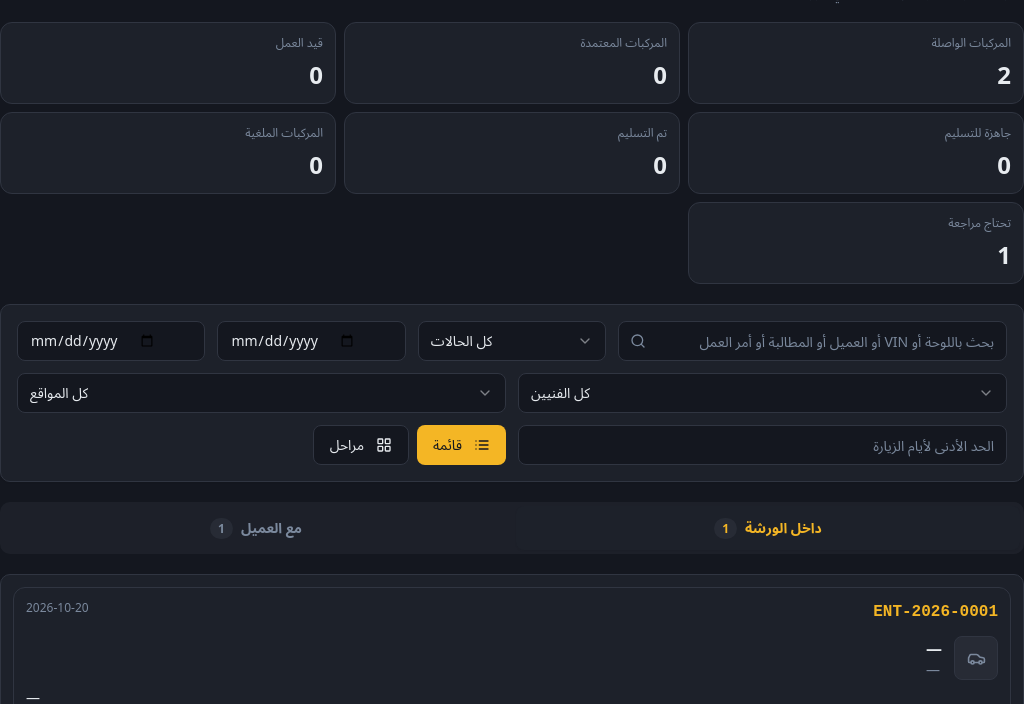
Test: vehicle entry list visit workflow › separates custody tabs, translates statuses, and exposes contradictory records
Expected: the link "ENT-2026-0001" is shown, [873,600,998,624]
Expected: the text "ENT-2026-0002" is not shown
Click the tab "مع العميل1": point(256, 528) [4,506,508,550]
(page scrolled)
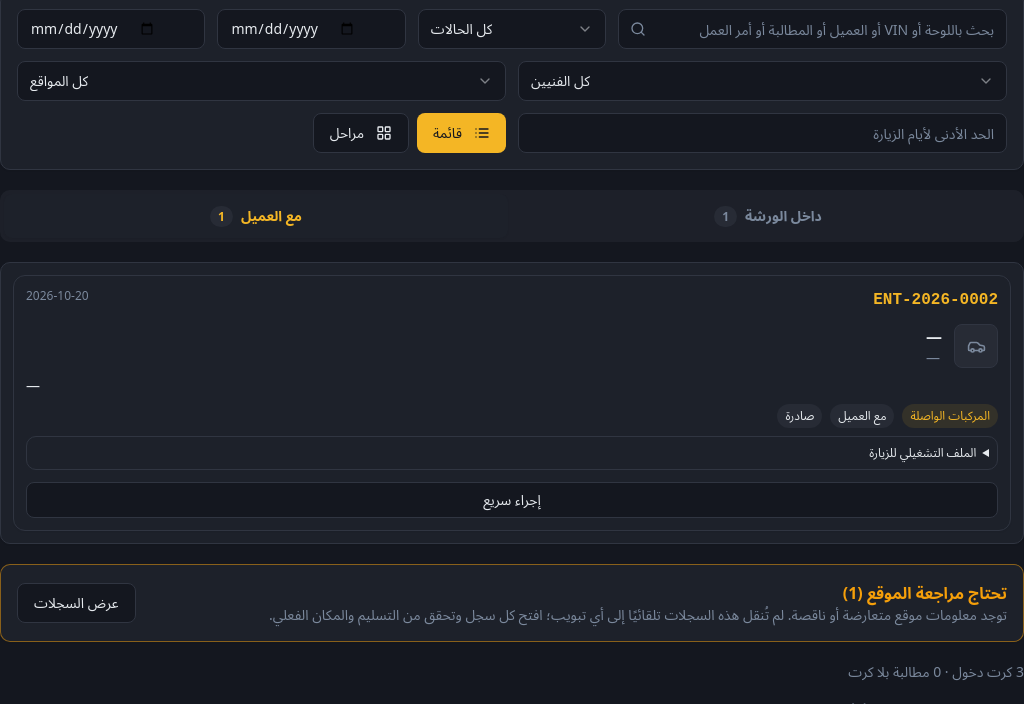
Expected: the link "ENT-2026-0002" is shown, [873,288,998,312]
Expected: the link "ENT-2026-0001" is gone
Expected: the text "صادرة" is shown, [777,404,822,428]
Click the button "عرض السجلات": point(76, 603) [17,583,136,623]
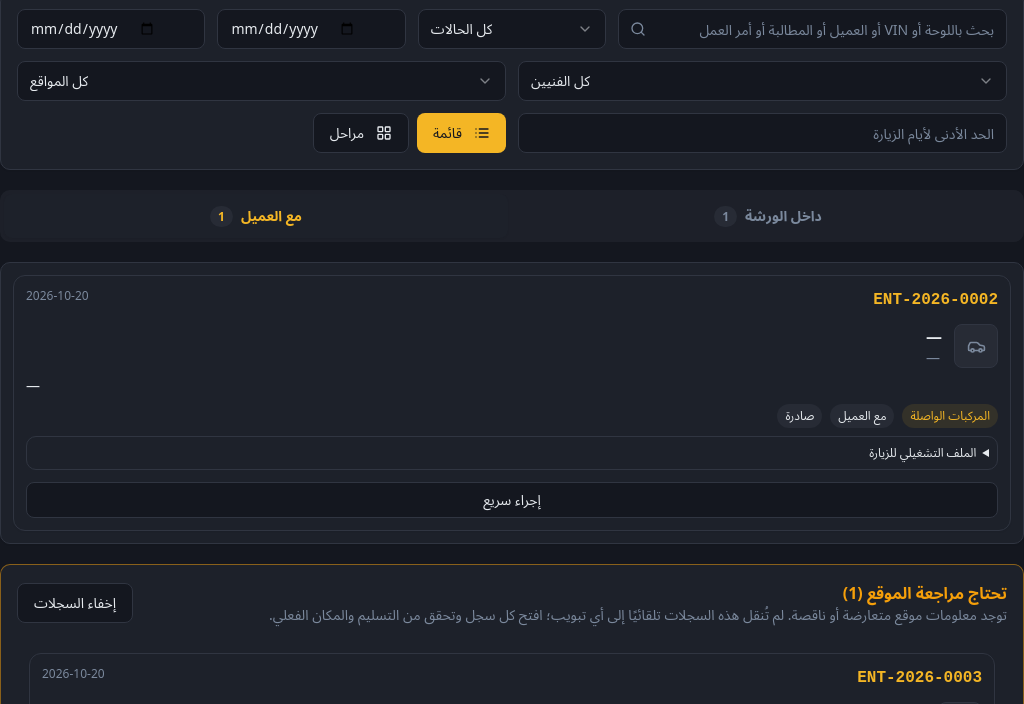
Expected: the link "ENT-2026-0003" is shown, [857,666,982,690]
